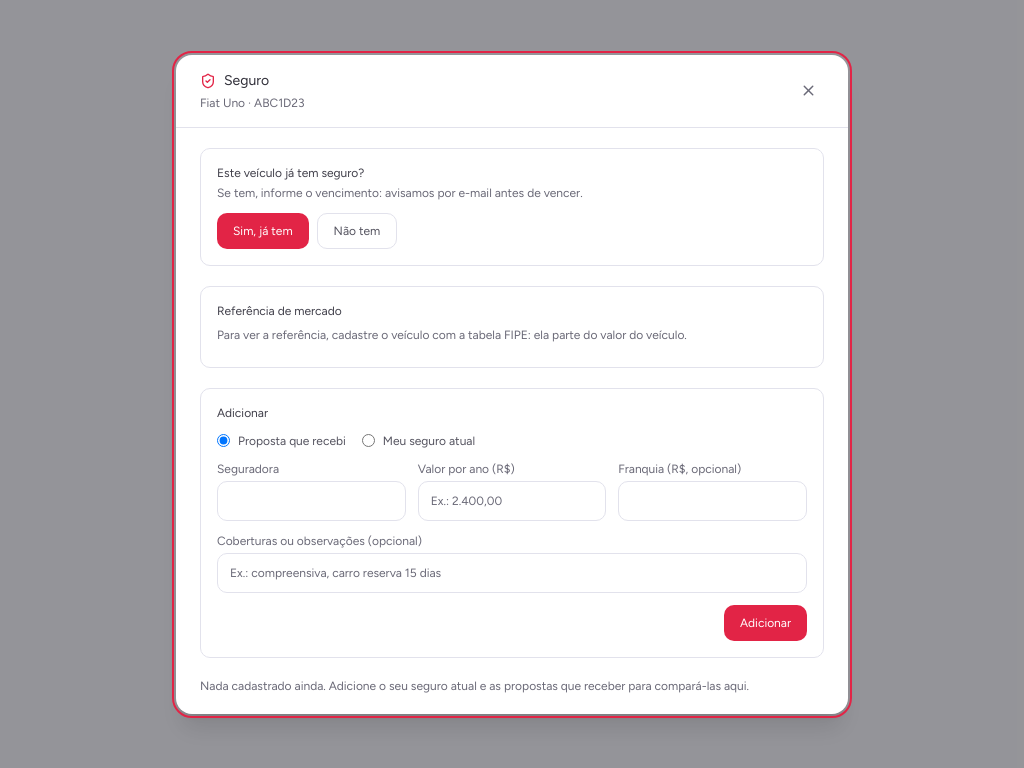
Scenario: SegurosModal: este veículo já tem seguro? › responder Não esconde a opção de seguro atual: só propostas
This screenshot has width=1024, height=768.
Click the button "Não tem". click: (357, 230)
box: [317, 212, 397, 248]
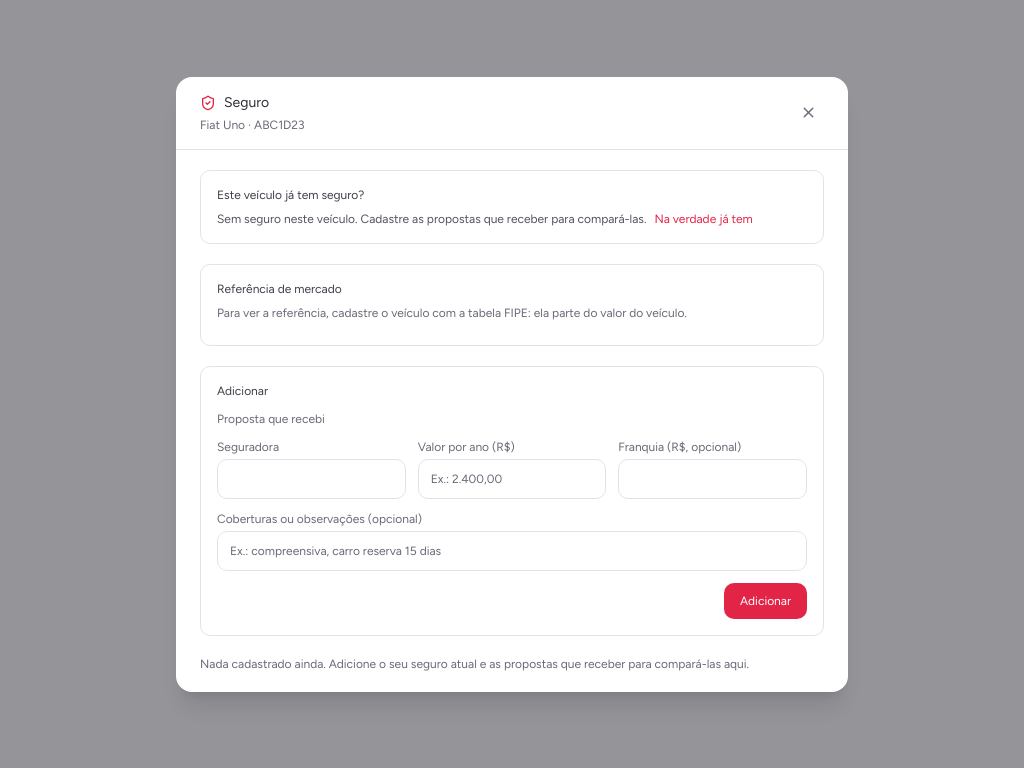
Now the text "Sem seguro neste veículo" is shown, box [217, 212, 646, 226]
Now the label "Meu seguro atual" is gone
